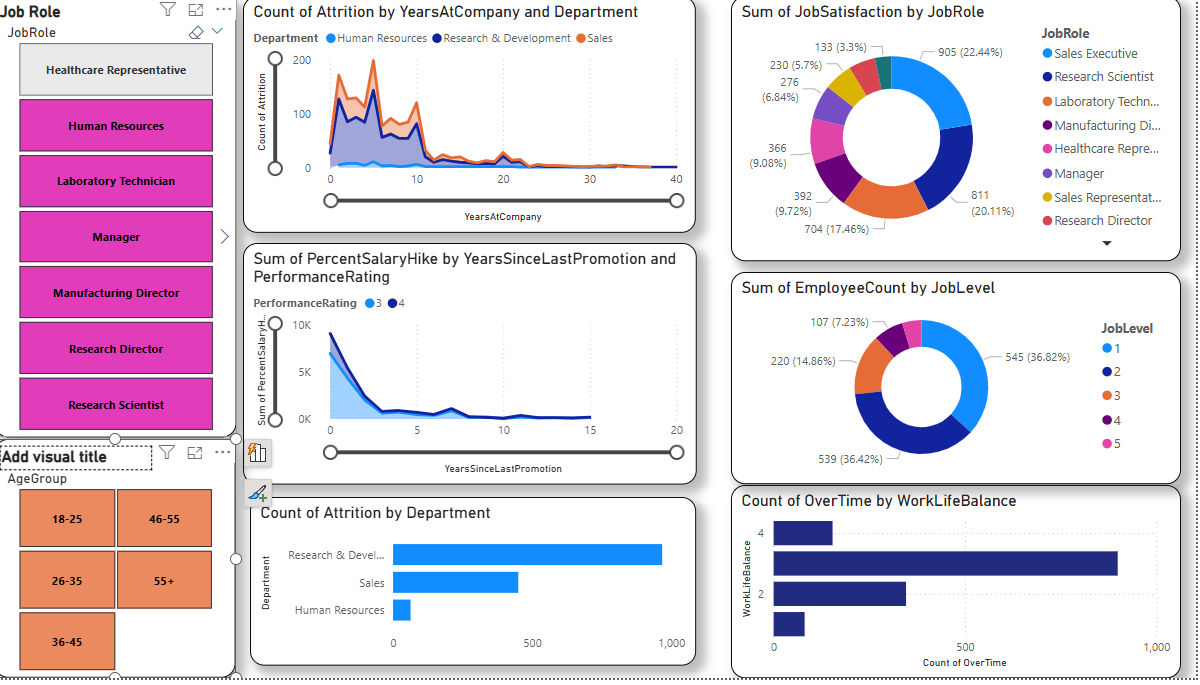

The page's visual inventory and layout, read from the dashboard file:
{"tool":"powerbi","page":{"name":"Page 1","canvas":[1280,720],"ordinal":0},"visuals":[{"type":"slicer","title":"Job Role","fields":{"Values":["HR_Analytics.JobRole"]},"box":[11,0,255.7,466],"z":0},{"type":"slicer","fields":{"Values":["HR_Analytics.AgeGroup"]},"box":[10.6,467.7,255.5,252.3],"z":1000},{"type":"stackedAreaChart","fields":{"Category":["HR_Analytics.YearsAtCompany"],"Y":["CountNonNull(HR_Analytics.Attrition)"],"Series":["HR_Analytics.Department"]},"box":[273.4,0,478.2,250.2],"z":2000},{"type":"stackedAreaChart","fields":{"Category":["HR_Analytics.YearsSinceLastPromotion"],"Y":["Sum(HR_Analytics.PercentSalaryHike)"],"Series":["HR_Analytics.PerformanceRating"]},"box":[273.9,260.3,478.6,254.9],"z":3000},{"type":"donutChart","fields":{"Y":["Sum(HR_Analytics.JobSatisfaction)"],"Category":["HR_Analytics.JobRole"]},"box":[788.6,0,475.1,279.8],"z":4000},{"type":"clusteredBarChart","fields":{"Y":["CountNonNull(HR_Analytics.OverTime)"],"Category":["HR_Analytics.WorkLifeBalance"]},"box":[788.6,516.2,475.1,203.8],"z":5000},{"type":"clusteredBarChart","fields":{"Category":["HR_Analytics.Department"],"Y":["CountNonNull(HR_Analytics.Attrition)"]},"box":[280.8,528.9,470.9,178.4],"z":6000},{"type":"donutChart","fields":{"Y":["Sum(HR_Analytics.EmployeeCount)"],"Category":["HR_Analytics.JobLevel"]},"box":[788.6,291.4,475.1,223.8],"z":6001}]}

Visuals, with their boxes on the page's 1280x720 design canvas (x1, y1, x2, y2). These are canvas units, not pixel positions in the 1200x685 screenshot, which may show the page scaled, cropped or inside an application window:
"Job Role" slicer: region(11, 0, 267, 466)
slicer - HR_Analytics.AgeGroup: region(11, 468, 266, 720)
stackedAreaChart - HR_Analytics.YearsAtCompany x CountNonNull(HR_Analytics.Attrition): region(273, 0, 752, 250)
stackedAreaChart - HR_Analytics.YearsSinceLastPromotion x Sum(HR_Analytics.PercentSalaryHike): region(274, 260, 752, 515)
donutChart - Sum(HR_Analytics.JobSatisfaction) x HR_Analytics.JobRole: region(789, 0, 1264, 280)
clusteredBarChart - CountNonNull(HR_Analytics.OverTime) x HR_Analytics.WorkLifeBalance: region(789, 516, 1264, 720)
clusteredBarChart - HR_Analytics.Department x CountNonNull(HR_Analytics.Attrition): region(281, 529, 752, 707)
donutChart - Sum(HR_Analytics.EmployeeCount) x HR_Analytics.JobLevel: region(789, 291, 1264, 515)
